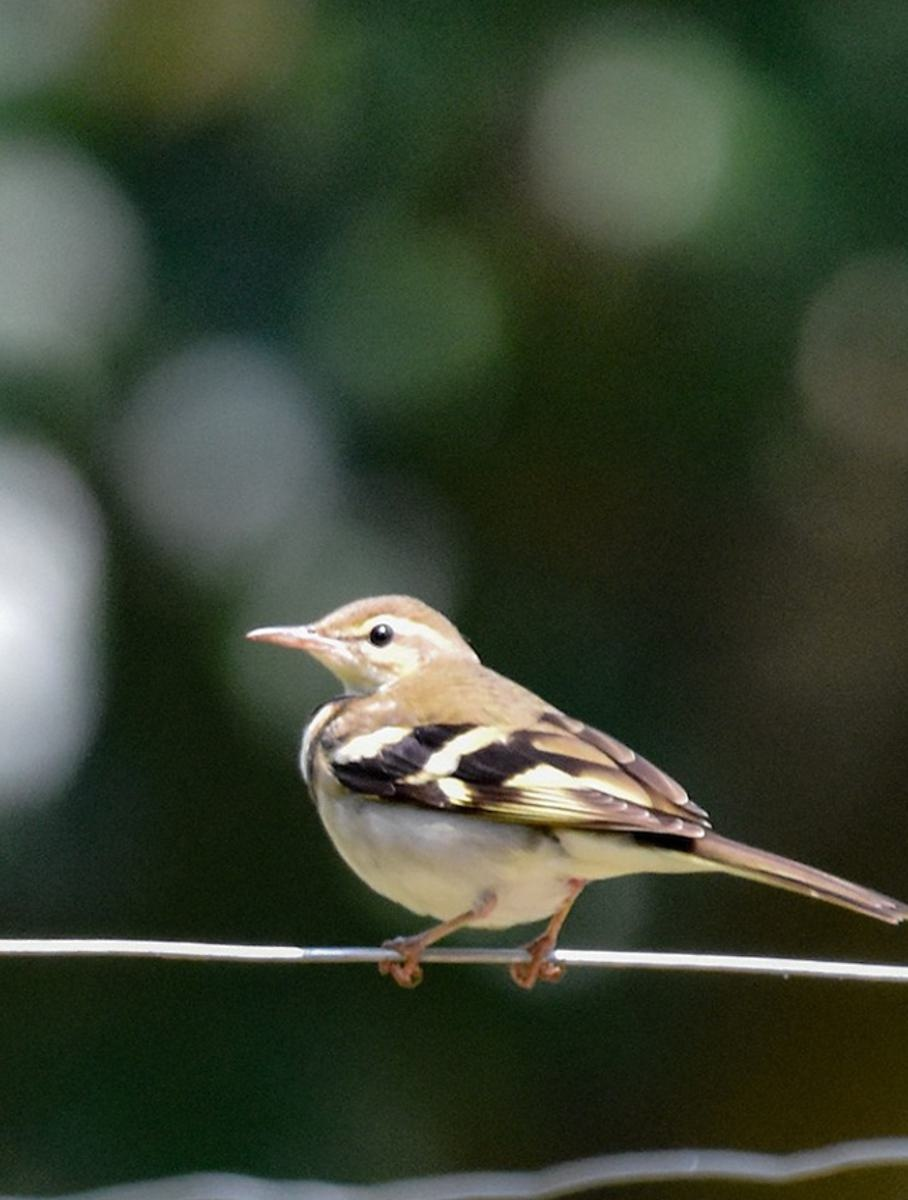wagtail: (202, 596, 874, 1031)
